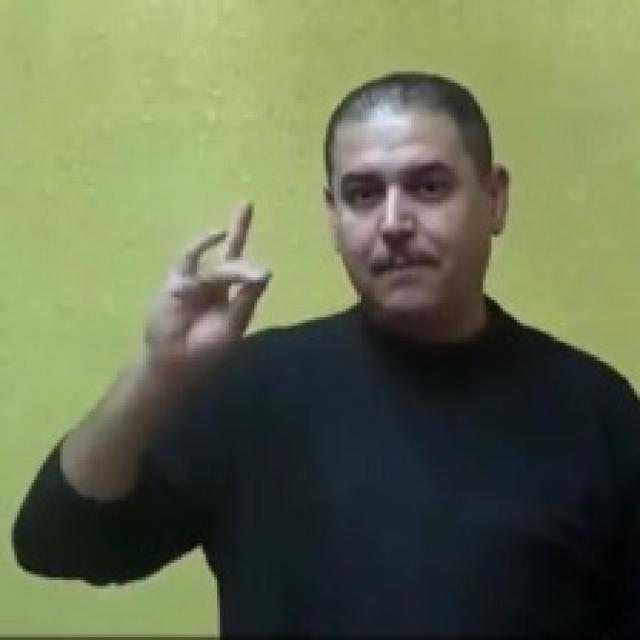Dog: (147, 194, 278, 365)
